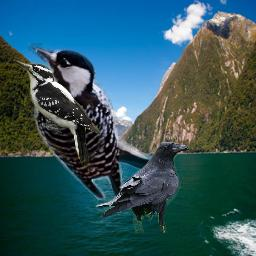Crow: (95, 142, 189, 233)
Woodpecker: (28, 43, 176, 200), (13, 57, 100, 171)
